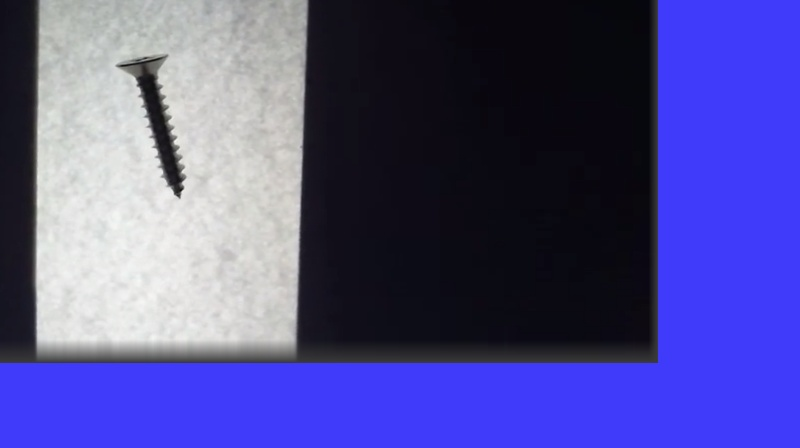S001: (111, 51, 190, 200)
